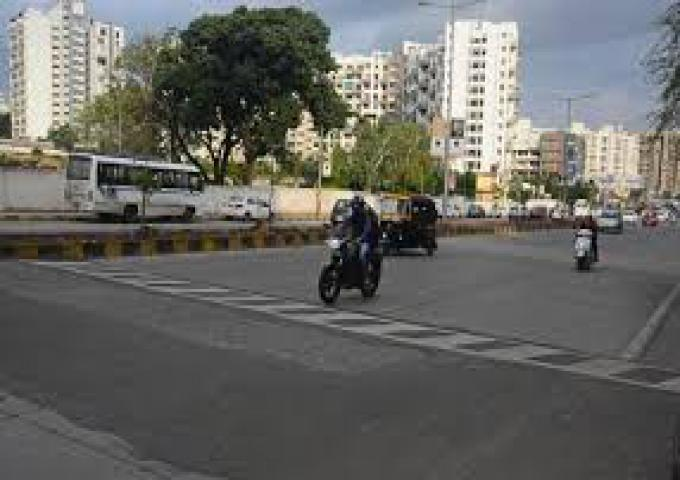Speed_Breaker: (7, 250, 680, 402), (17, 252, 678, 396)
